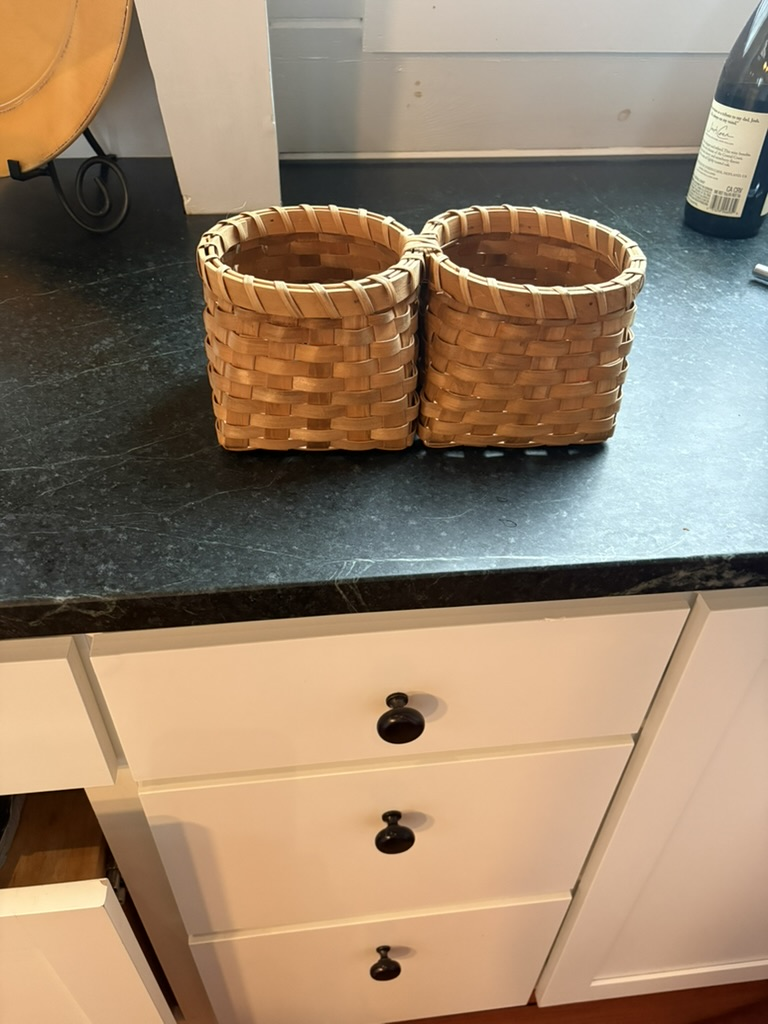box: (181, 199, 654, 468)
